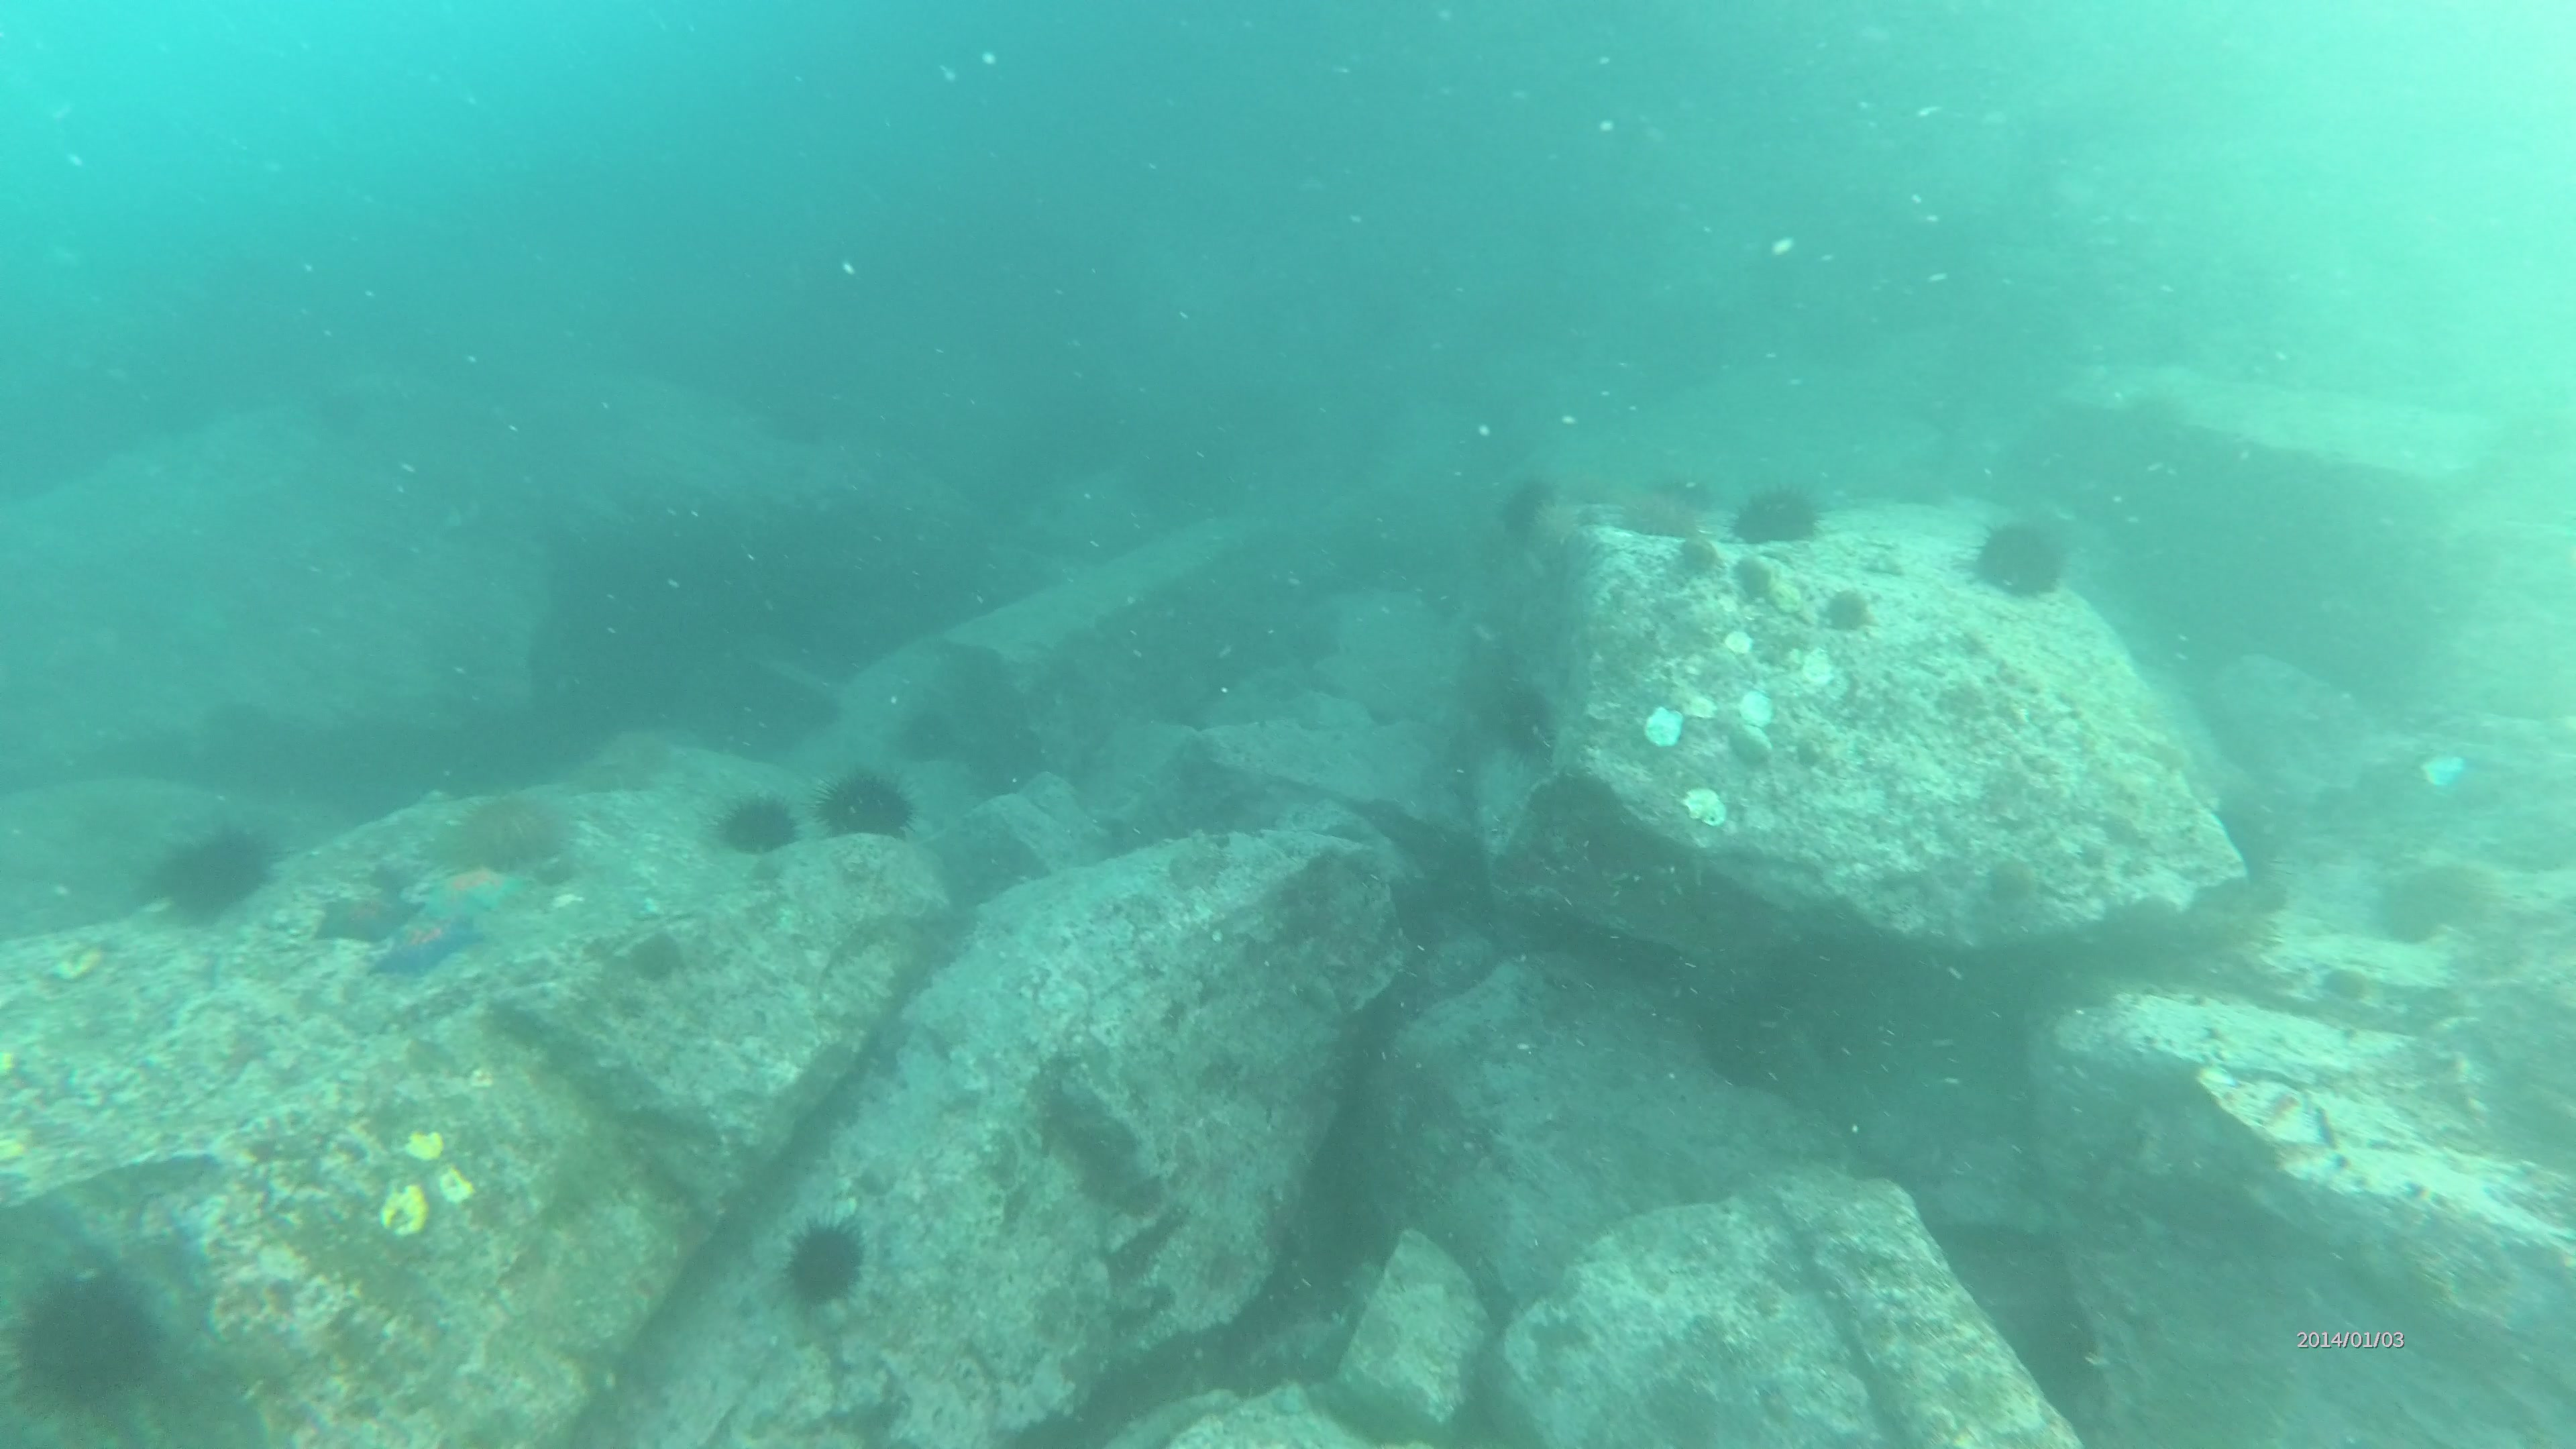echinus: (0, 1244, 184, 1438), (134, 819, 288, 931), (433, 789, 579, 888), (782, 1207, 876, 1311), (1973, 513, 2077, 602), (814, 766, 927, 842), (701, 786, 809, 858), (1491, 681, 1571, 763), (1495, 465, 1562, 561), (1615, 481, 1713, 547), (1730, 481, 1826, 547), (570, 755, 667, 800), (626, 929, 681, 980)
starfish: (306, 883, 421, 939), (370, 911, 474, 973), (425, 856, 525, 916)
